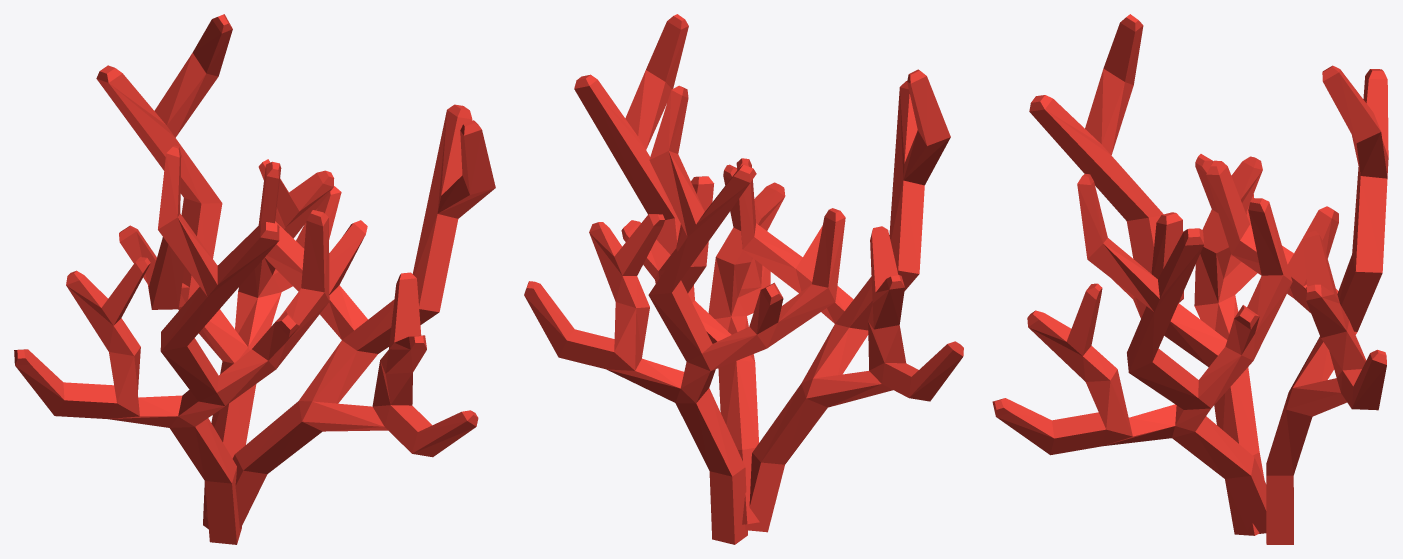
Rendered from Coral_022.glb.
The picture shows the model from 3 angles, left to right: view 1: azimuth 30°, elevation 25°; view 2: azimuth 150°, elevation 25°; view 3: azimuth 270°, elevation 25°; orthographic projection. The views are drawn at different scales.
Parts seen in each view (by area): view 1: Coral_022; view 2: Coral_022; view 3: Coral_022.
Part boxes in pixels (left/top/right/bottom): Coral_022: left=14, top=14, right=495, bottom=544; Coral_022: left=524, top=14, right=963, bottom=544; Coral_022: left=992, top=14, right=1388, bottom=544.
Size of the model in its own units: 0.6632 by 0.7195 by 0.5318.
Materials: 1 (1 with a texture image).
